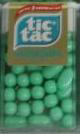grozi_21: (0, 0, 80, 134)
